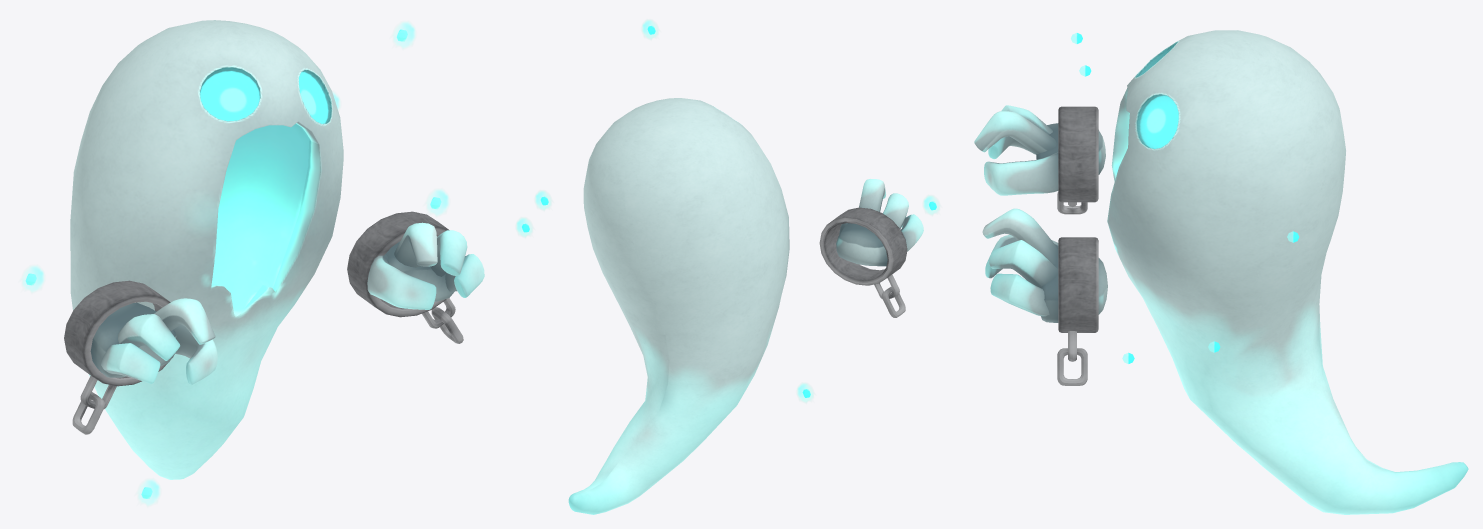
Rendered from 3december_-fantasy_ghost.glb.
3 views of the same model, side by side, from view 1: azimuth 30°, elevation 25°; view 2: azimuth 150°, elevation 25°; view 3: azimuth 270°, elevation 25° (orthographic). The views are drawn at different scales.
Parts seen in each view (by area): view 1: polySurface2, polySurface10, pCube7, polySurface3, pCylinder5, pTorus5, polySurface4; view 2: polySurface2, polySurface3, polySurface10; view 3: polySurface2, pCube7, polySurface10, polySurface3, pCylinder5, pTorus5.
Part boxes in pixels (left/top/right/bottom): polySurface2: left=70, top=20, right=343, bottom=479; polySurface10: left=90, top=298, right=217, bottom=384; pCube7: left=367, top=222, right=484, bottom=309; polySurface3: left=64, top=280, right=173, bottom=386; pCylinder5: left=347, top=211, right=449, bottom=317; pTorus5: left=422, top=298, right=463, bottom=343; polySurface4: left=72, top=392, right=104, bottom=434; polySurface2: left=568, top=98, right=789, bottom=514; polySurface3: left=819, top=207, right=907, bottom=285; polySurface10: left=836, top=179, right=923, bottom=266; polySurface2: left=1107, top=30, right=1468, bottom=514; pCube7: left=982, top=208, right=1107, bottom=322; polySurface10: left=974, top=105, right=1105, bottom=195; polySurface3: left=1058, top=106, right=1098, bottom=202; pCylinder5: left=1058, top=237, right=1098, bottom=332; pTorus5: left=1057, top=331, right=1087, bottom=385.
Bounding box in the file's own units: 222 × 221 × 197.
Materials: 1 (1 with a texture image).
